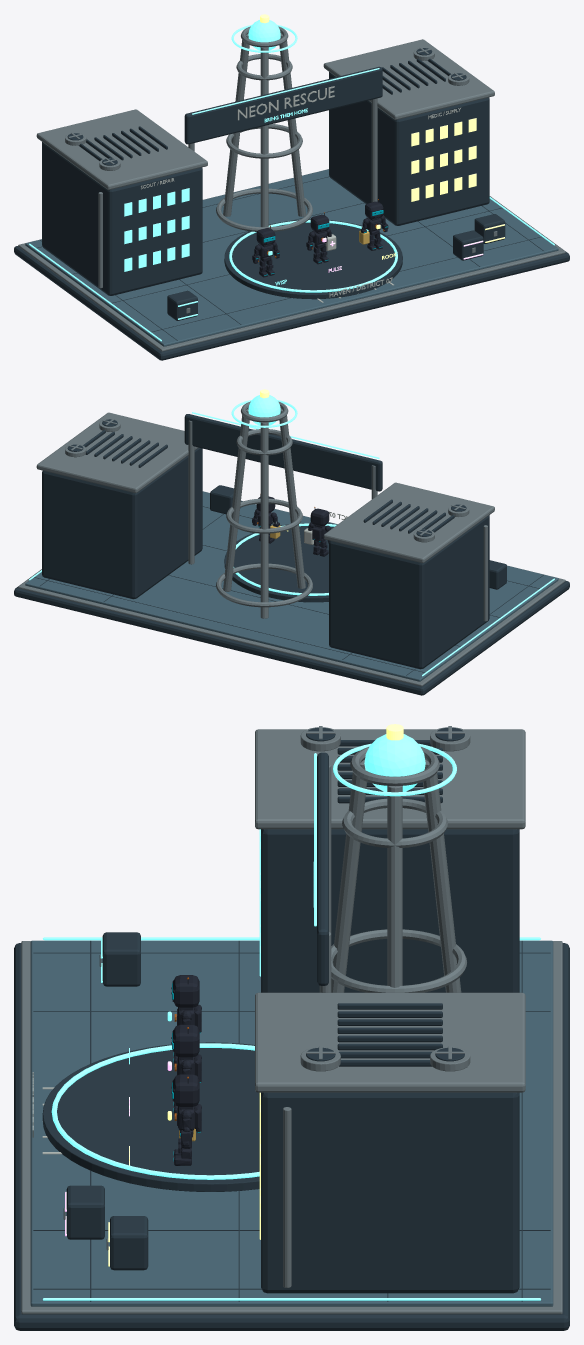
Rendered from haven-station.glb.
3 views of the same model, one above another, from view 1: azimuth 30°, elevation 25°; view 2: azimuth 150°, elevation 25°; view 3: azimuth 270°, elevation 25° (orthographic). The views are drawn at different scales.
Visible parts, largest first — view 1: Neon Rescue / Haven Station.001; view 2: Neon Rescue / Haven Station.001; view 3: Neon Rescue / Haven Station.001.
Boxes of the visible parts, x1,y1,x2,y2 form: Neon Rescue / Haven Station.001: [14, 14, 569, 360]; Neon Rescue / Haven Station.001: [14, 389, 569, 695]; Neon Rescue / Haven Station.001: [14, 724, 569, 1330].
Size of the model in its own units: 18.6 by 9.6 by 11.6.
